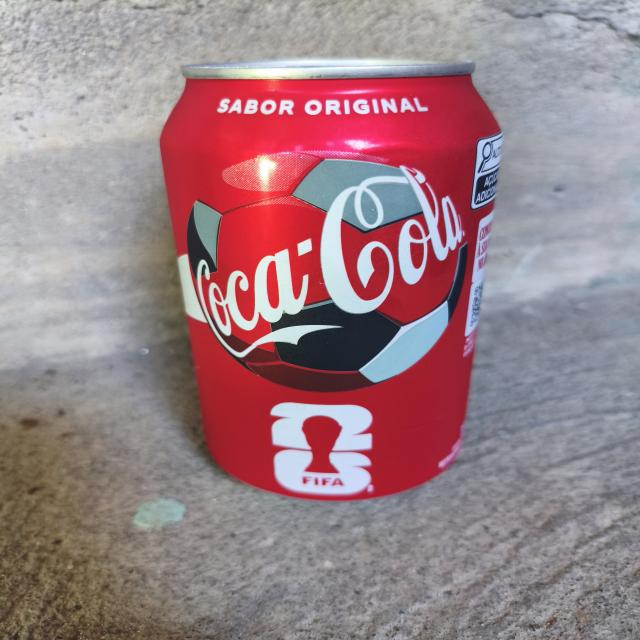Coca Cola: (122, 38, 534, 506)
